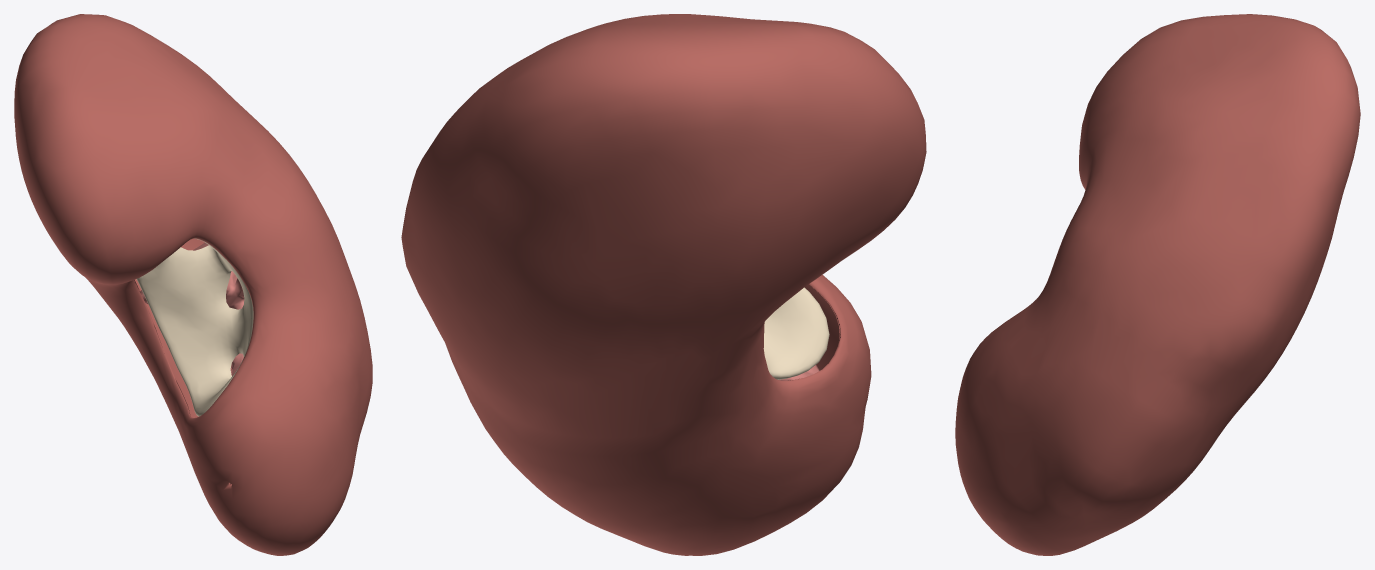
File: kidney.mo.glb
The picture shows the model from 3 angles, left to right: view 1: azimuth 30°, elevation 25°; view 2: azimuth 150°, elevation 25°; view 3: azimuth 270°, elevation 25°; orthographic projection. The views are drawn at different scales.
Visible parts, largest first — view 1: Kidney_capsule, Renal_hilum, Renal_pyramids; view 2: Kidney_capsule, Renal_hilum; view 3: Kidney_capsule.
Boxes of the visible parts, box(x1,y1,x2,y2) form: Kidney_capsule: box(14, 14, 372, 555); Renal_hilum: box(136, 238, 253, 416); Renal_pyramids: box(140, 242, 244, 376); Kidney_capsule: box(401, 14, 926, 555); Renal_hilum: box(763, 287, 829, 379); Kidney_capsule: box(955, 14, 1360, 555).
Bounding box in the file's own units: 1.42 × 2 × 1.55.
